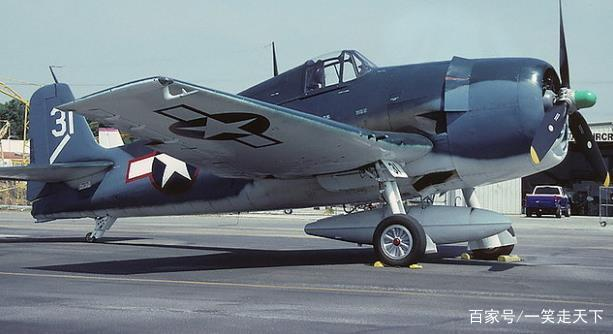airplane: (4, 1, 605, 275)
